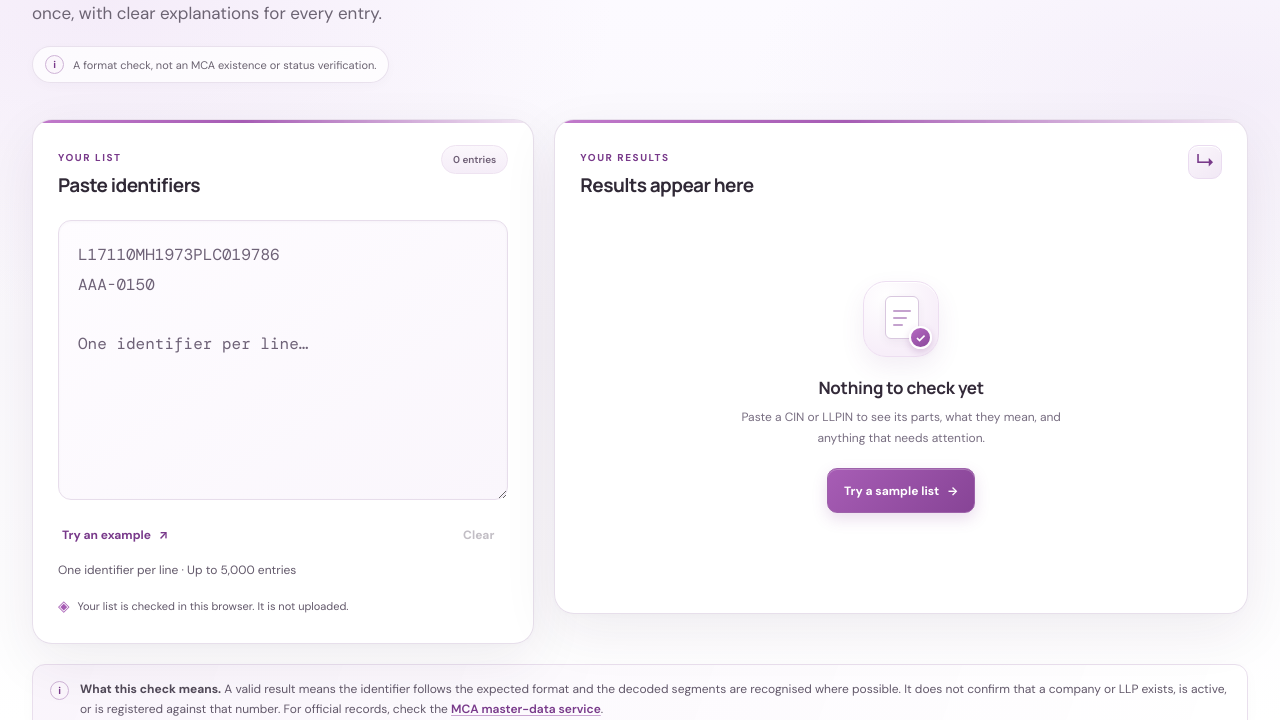
Test: FileSure checker interface › renders the UR state code as Uttarakhand in the result card
The image size is (1280, 720).
(page scrolled)
Type "U40109UR2001SGC025867" into the text box named "Paste one CIN or LLPIN per line" at point(283, 360), box [58,220,508,500]
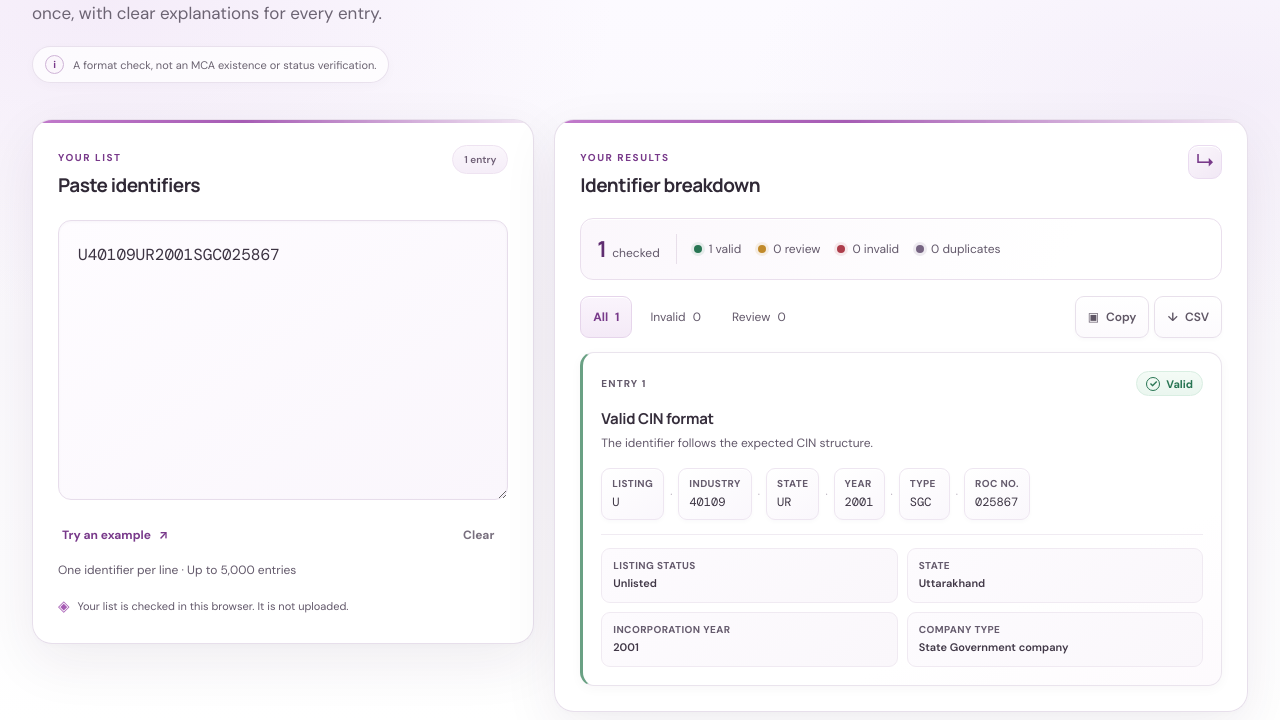
Expected: the heading "Valid CIN format" is shown, [601,408,714,429]
Expected: the text "Uttarakhand" is shown, [919,576,985,590]
